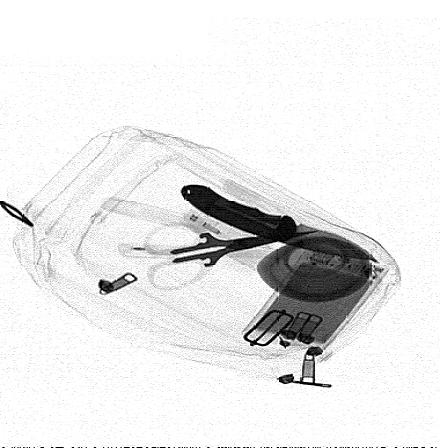Knife: (181, 183, 379, 264)
Powerbank: (242, 246, 391, 353)
Scissors: (144, 223, 323, 291)
